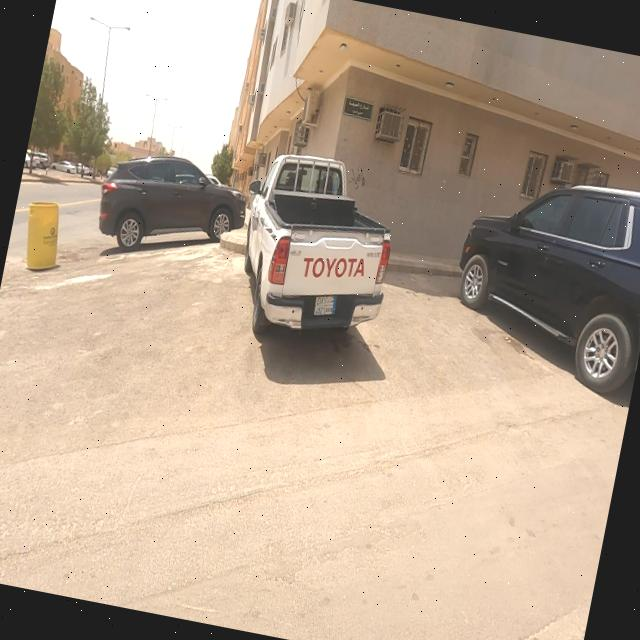Graffiti: (347, 166, 369, 192)
